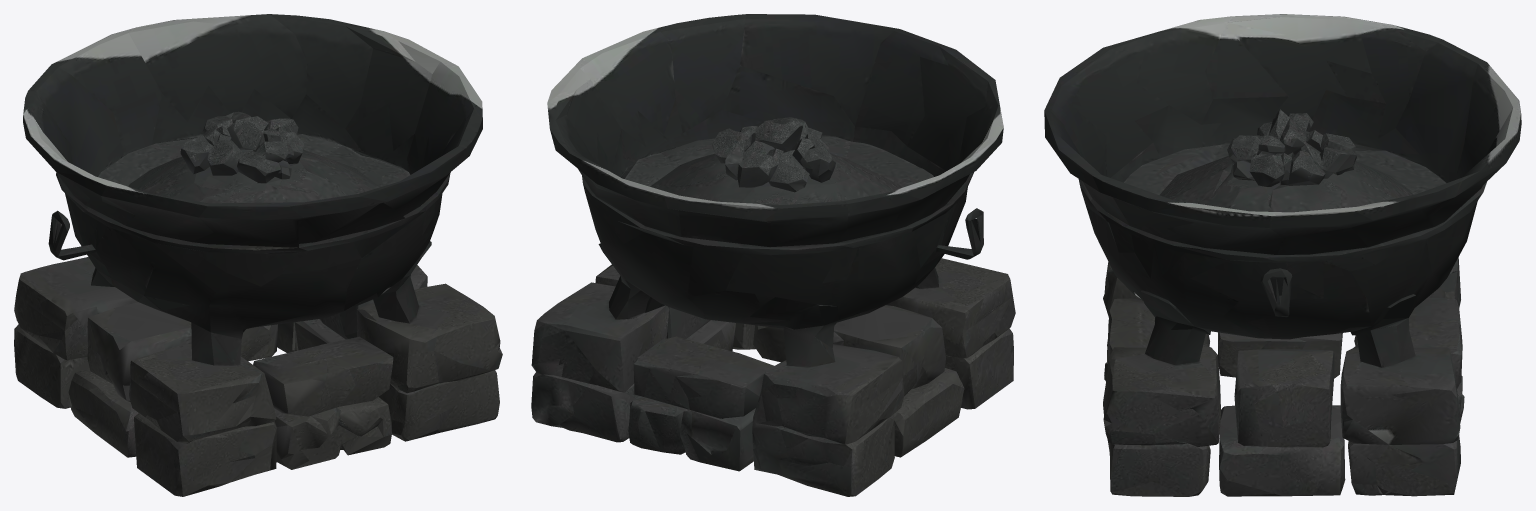
File: brazier.glb
The picture shows the model from 3 angles, left to right: view 1: azimuth 30°, elevation 25°; view 2: azimuth 150°, elevation 25°; view 3: azimuth 270°, elevation 25°; orthographic projection. The views are drawn at different scales.
Bounding box in the file's own units: 1.9 × 1.29 × 1.85.
1 material, 1 textured.
